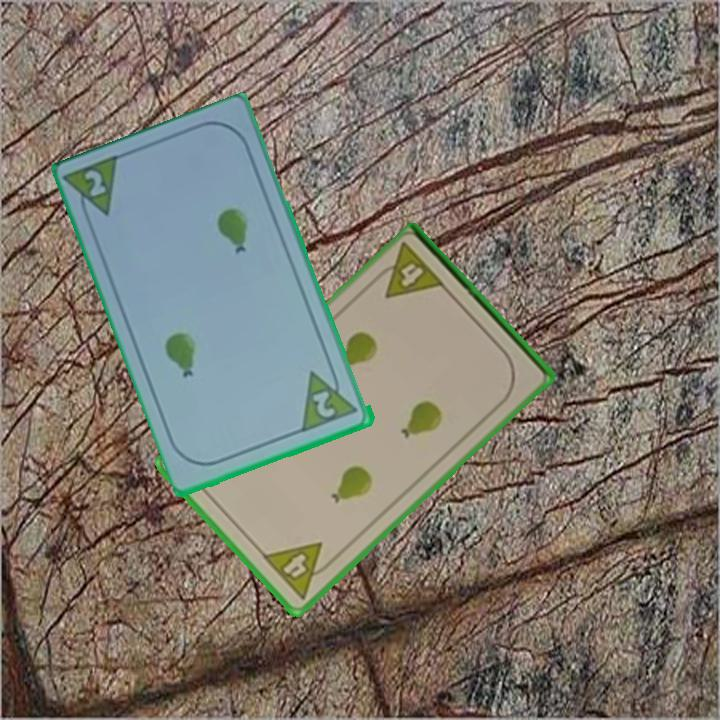2p: (63, 151, 126, 229), (299, 362, 362, 435)
4p: (259, 538, 339, 603), (369, 240, 449, 302)
